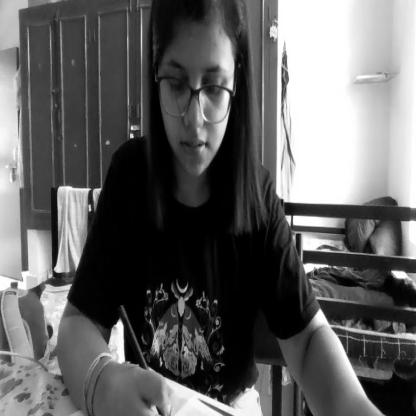Normal: (149, 0, 238, 187)
